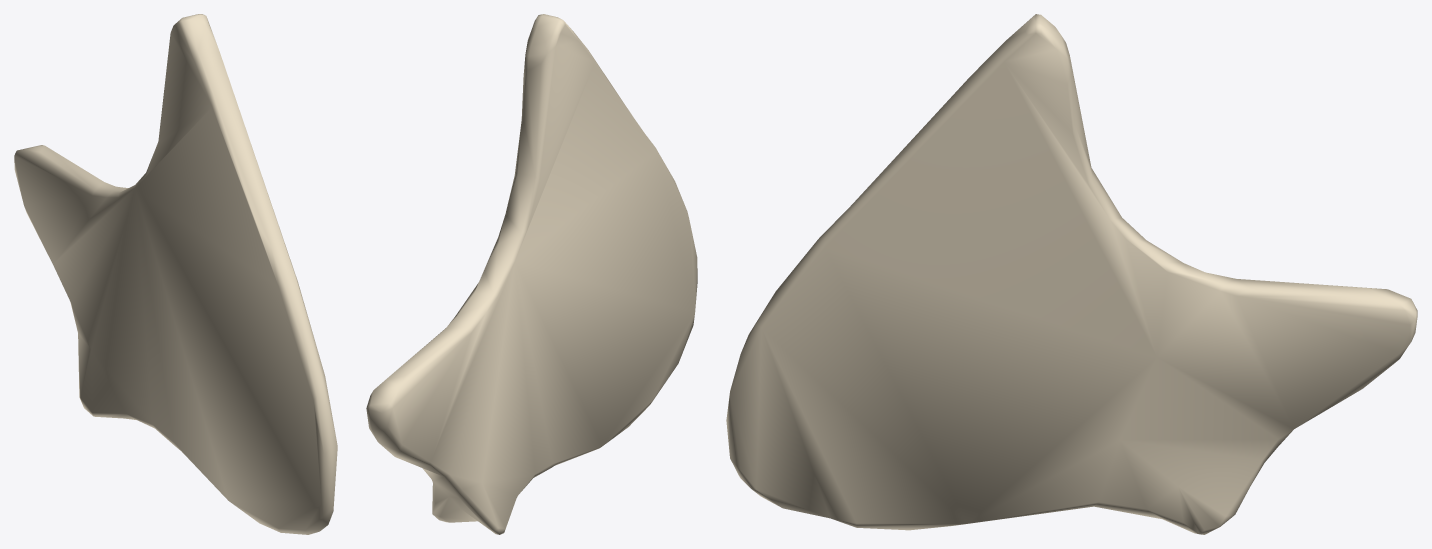
File: nasal-septal-cartilage.glb
The picture shows the model from 3 angles, left to right: view 1: azimuth 30°, elevation 25°; view 2: azimuth 150°, elevation 25°; view 3: azimuth 270°, elevation 25°; orthographic projection. The views are drawn at different scales.
Visible parts, largest first — view 1: Nasal septal cartilage; view 2: Nasal septal cartilage; view 3: Nasal septal cartilage.
Boxes of the visible parts, x1=… form: Nasal septal cartilage: x1=14, y1=14, x2=337, y2=534; Nasal septal cartilage: x1=366, y1=14, x2=697, y2=534; Nasal septal cartilage: x1=726, y1=14, x2=1417, y2=534.
Size of the model in its own units: 0.00492 by 0.0344 by 0.0423.
